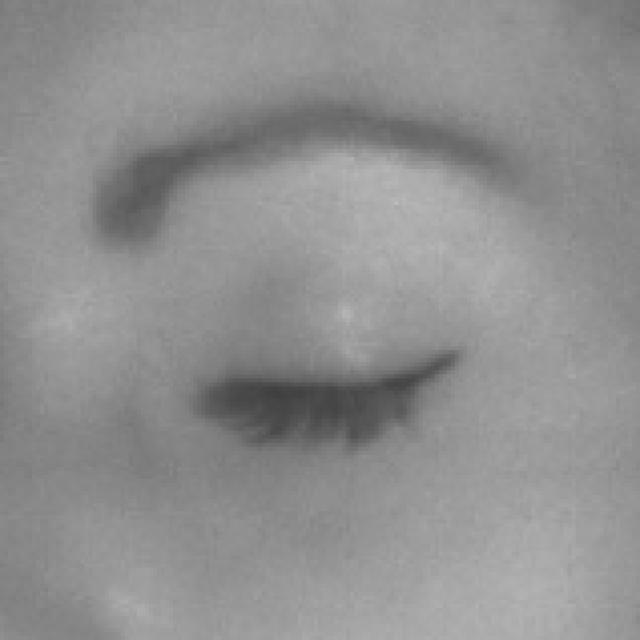Eyeclosed: (213, 273, 463, 507)
